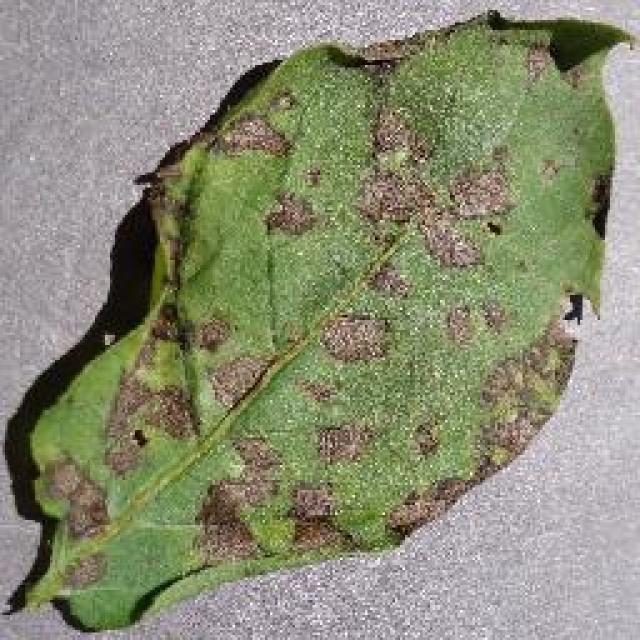early_blight: (8, 8, 638, 632)
